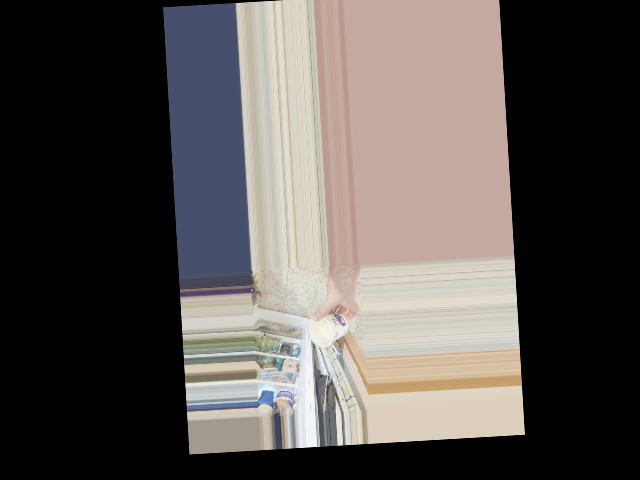cotage: (314, 313, 347, 345)
